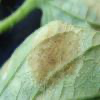Tomato mold leaf: (0, 13, 99, 99)
